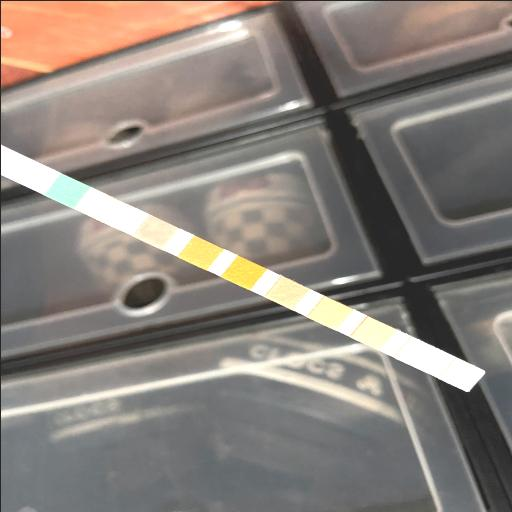Bilirubin: (100, 202, 124, 222)
Blood: (232, 262, 254, 282)
Glucose: (54, 181, 79, 199)
Ketone: (146, 222, 166, 242)
Leukocytes: (451, 364, 473, 384)
Nitrite: (406, 344, 429, 364)
Protein: (319, 303, 340, 322)
SpGravity: (188, 242, 212, 262)
Urobilinogen: (362, 323, 384, 342)
pH: (276, 282, 297, 302)
strip: (0, 144, 484, 391)
